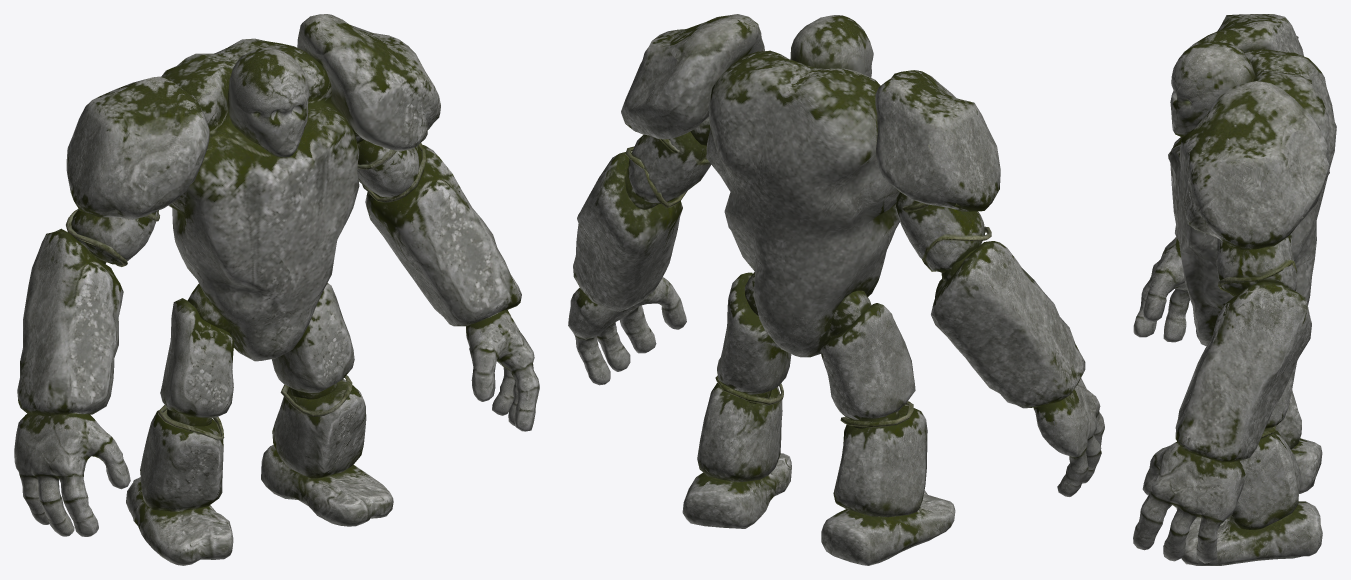
File: stone_golem.glb
3 views of the same model, side by side, from view 1: azimuth 30°, elevation 25°; view 2: azimuth 150°, elevation 25°; view 3: azimuth 270°, elevation 25° (orthographic). The views are drawn at different scales.
Bounding box in the file's own units: 1 × 0.9249 × 0.362.
1 material, 1 textured.
